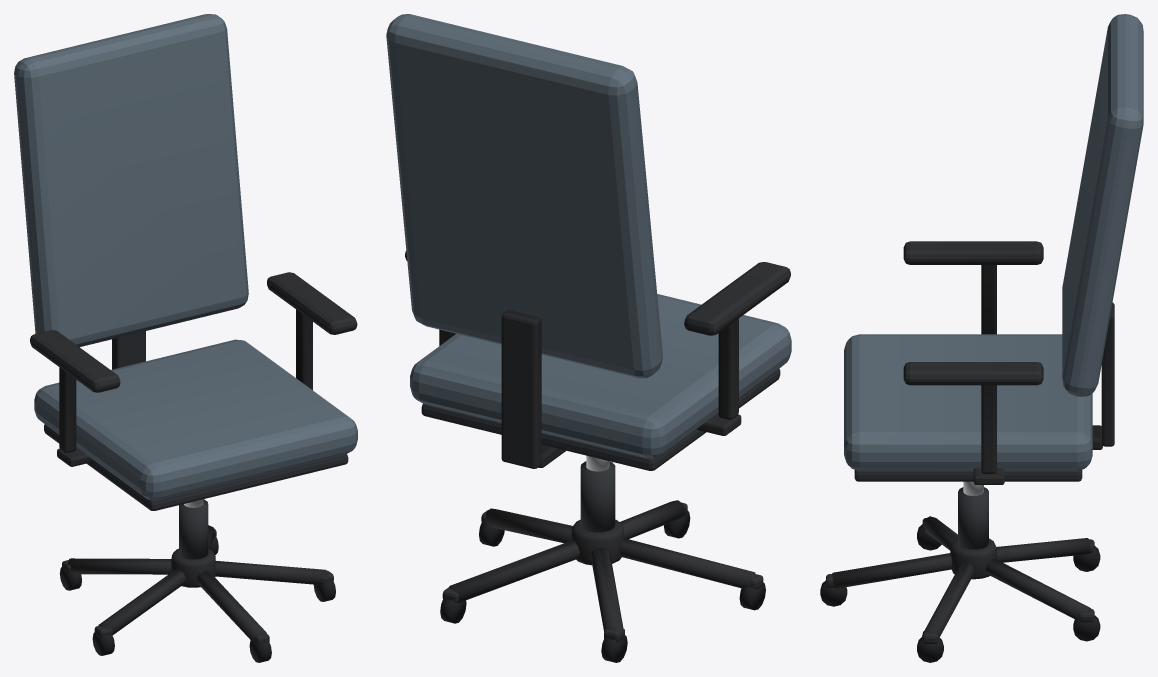
File: officeChair.glb
3 renders of one model, left to right at view 1: azimuth 30°, elevation 25°; view 2: azimuth 150°, elevation 25°; view 3: azimuth 270°, elevation 25°, orthographic. The views are drawn at different scales.
Parts seen in each view (by area): view 1: seat, base; view 2: seat, base; view 3: seat, base.
Part boxes in pixels (bbox=[...]): seat: bbox=[14, 14, 357, 510]; base: bbox=[59, 499, 335, 662]; seat: bbox=[386, 14, 791, 470]; base: bbox=[440, 455, 765, 662]; seat: bbox=[844, 14, 1143, 484]; base: bbox=[820, 481, 1100, 662].
Size of the model in its own units: 0.615 by 1.16 by 0.6244.
